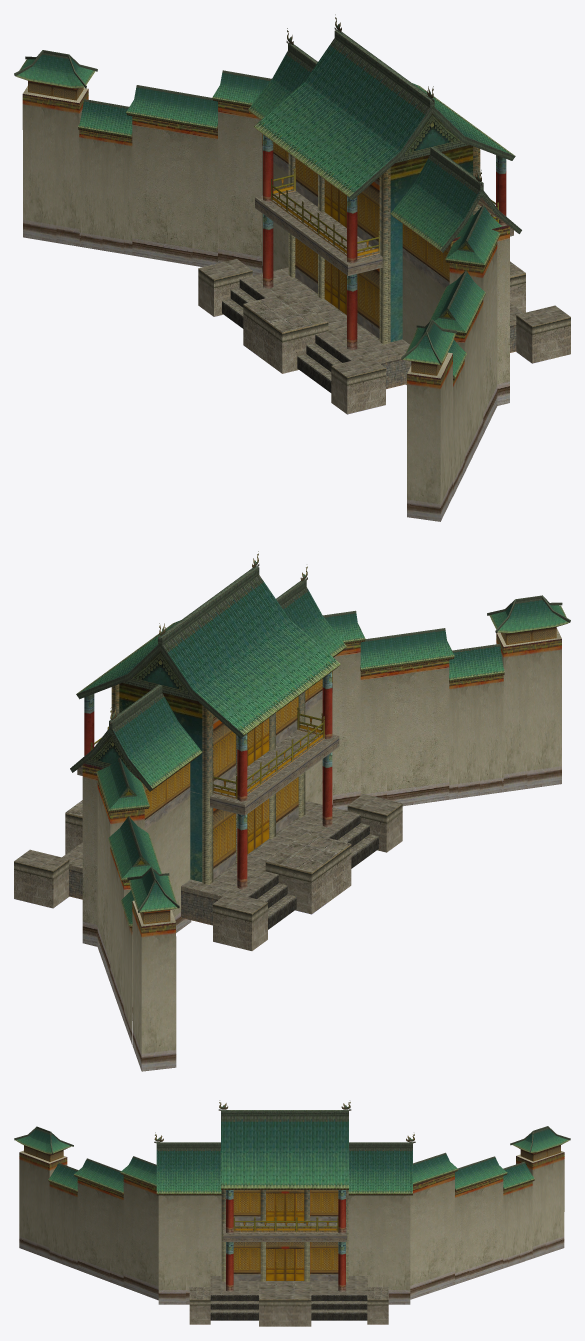
Rendered from cj_monstad_door02.glb.
The picture shows the model from 3 angles, top to bottom: view 1: azimuth 30°, elevation 25°; view 2: azimuth 150°, elevation 25°; view 3: azimuth 270°, elevation 25°; orthographic projection. The views are drawn at different scales.
Parts seen in each view (by area): view 1: CJ_monstad_door02_03, CJ_monstad_door02_01, CJ_monstad_door02_08, CJ_monstad_door02_05, CJ_monstad_door02_07, CJ_monstad_door02_04, CJ_monstad_door02_02, CJ_monstad_door02_06, CJ_monstad_door02_09; view 2: CJ_monstad_door02_03, CJ_monstad_door02_01, CJ_monstad_door02_08, CJ_monstad_door02_05, CJ_monstad_door02_07, CJ_monstad_door02_04, CJ_monstad_door02_02, CJ_monstad_door02_06, CJ_monstad_door02_09; view 3: CJ_monstad_door02_03, CJ_monstad_door02_01, CJ_monstad_door02_08, CJ_monstad_door02_05, CJ_monstad_door02_04, CJ_monstad_door02_07, CJ_monstad_door02_09, CJ_monstad_door02_06.
Part boxes in pixels (x1,y1,x2,y2): CJ_monstad_door02_03: (22, 86, 509, 521); CJ_monstad_door02_01: (14, 30, 521, 392); CJ_monstad_door02_08: (28, 81, 469, 375); CJ_monstad_door02_05: (198, 189, 570, 377); CJ_monstad_door02_07: (198, 177, 570, 414); CJ_monstad_door02_04: (263, 134, 506, 350); CJ_monstad_door02_02: (390, 145, 472, 341); CJ_monstad_door02_06: (255, 197, 516, 389); CJ_monstad_door02_09: (271, 14, 498, 258); CJ_monstad_door02_03: (82, 628, 561, 1071); CJ_monstad_door02_01: (70, 566, 570, 929); CJ_monstad_door02_08: (85, 627, 556, 924); CJ_monstad_door02_05: (14, 728, 402, 913); CJ_monstad_door02_07: (14, 715, 402, 950); CJ_monstad_door02_04: (84, 672, 332, 889); CJ_monstad_door02_02: (119, 683, 202, 881); CJ_monstad_door02_06: (69, 736, 339, 925); CJ_monstad_door02_09: (90, 551, 324, 798); CJ_monstad_door02_03: (19, 1150, 564, 1304); CJ_monstad_door02_01: (14, 1110, 570, 1320); CJ_monstad_door02_08: (24, 1145, 560, 1280); CJ_monstad_door02_05: (189, 1223, 388, 1299); CJ_monstad_door02_04: (221, 1190, 348, 1291); CJ_monstad_door02_07: (189, 1299, 388, 1326); CJ_monstad_door02_09: (154, 1100, 415, 1232); CJ_monstad_door02_06: (223, 1235, 347, 1241).
Bounding box in the file's own units: 25.28 × 24.05 × 62.47.
10 materials, 10 textured.
